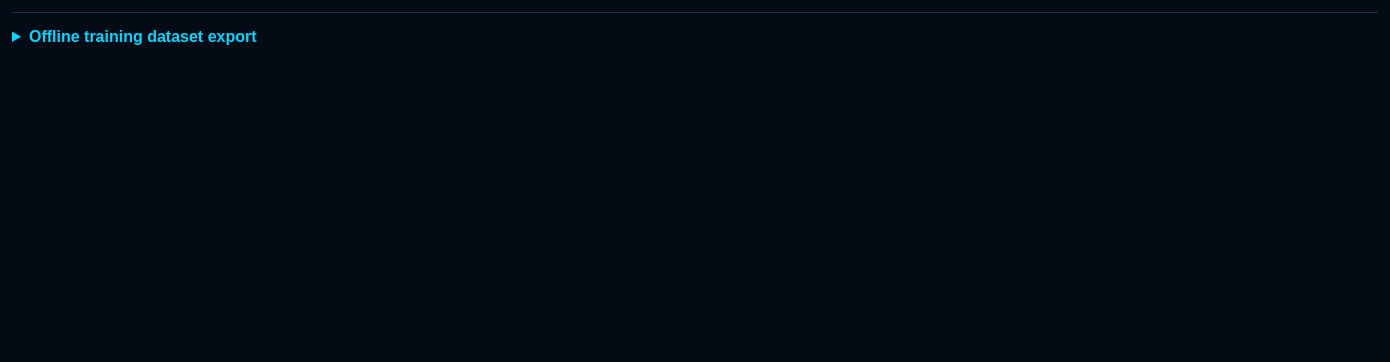
Test: Genuine research evaluation controls › reports split independence failures without offering a training download
Click the heading "Offline training dataset export": [143, 36] box 29,28 -> 256,45
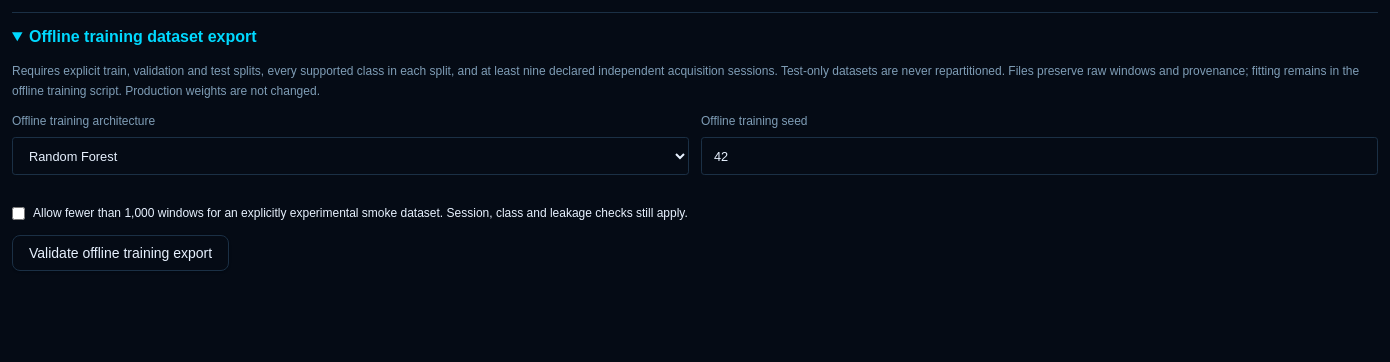
Click the button "Validate offline training export": [121, 253] box 12,235 -> 229,271
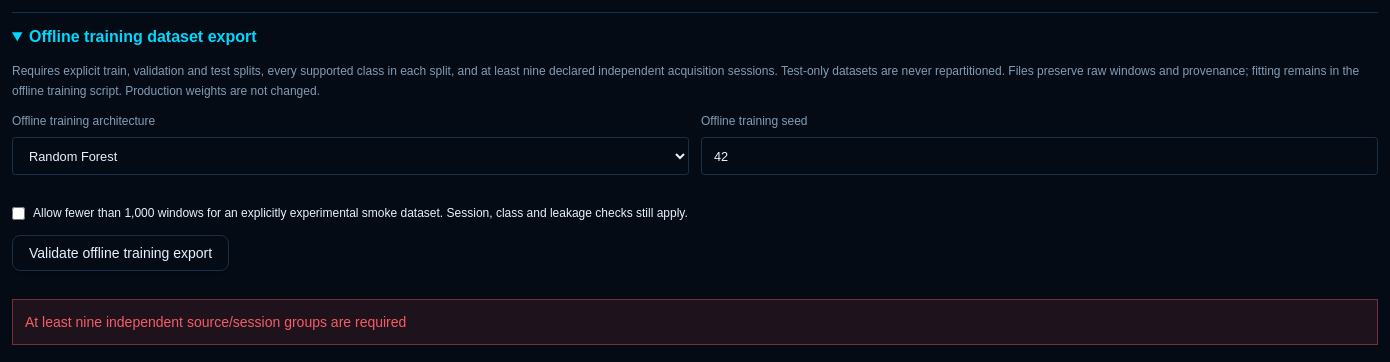
expect the text "At least nine independent source/session groups are required" is shown: met, box 12,299 -> 1378,345
